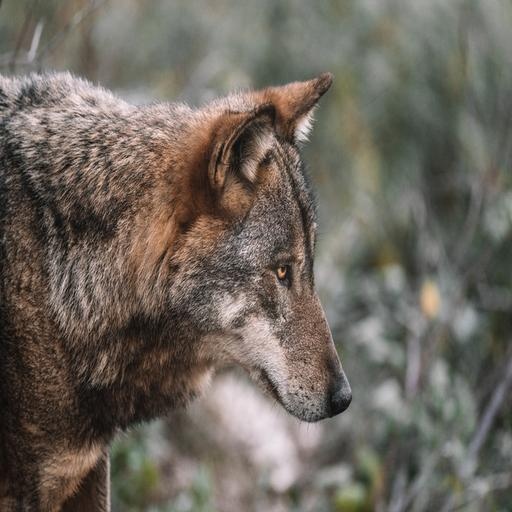Wolf: (0, 66, 360, 508)
